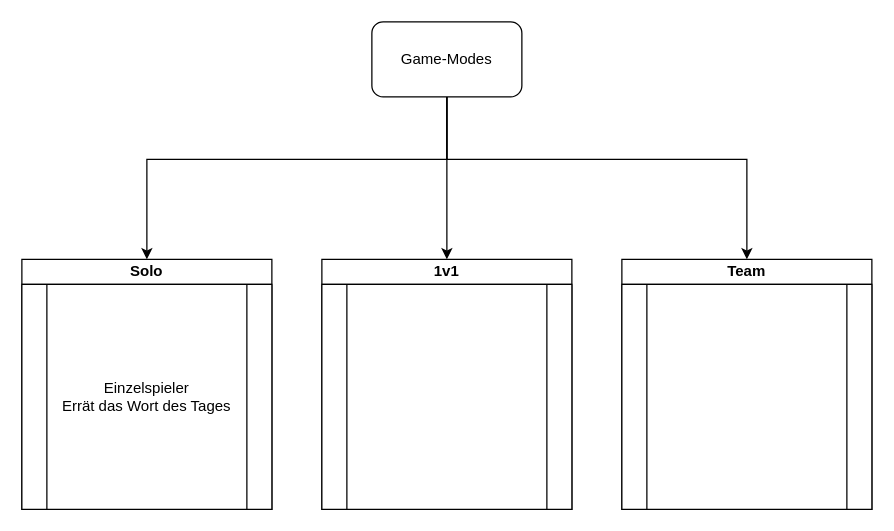
Image size: 894x531. Some labels were removed from this diagram. Each missing label, with the centre of its shape:
Mehrspieler 2 Spieler spielen gegeneinander: the point at 446,396
Mehrspieler Mehrere Spieler erraten das gleiche Wort: the point at 746,396
